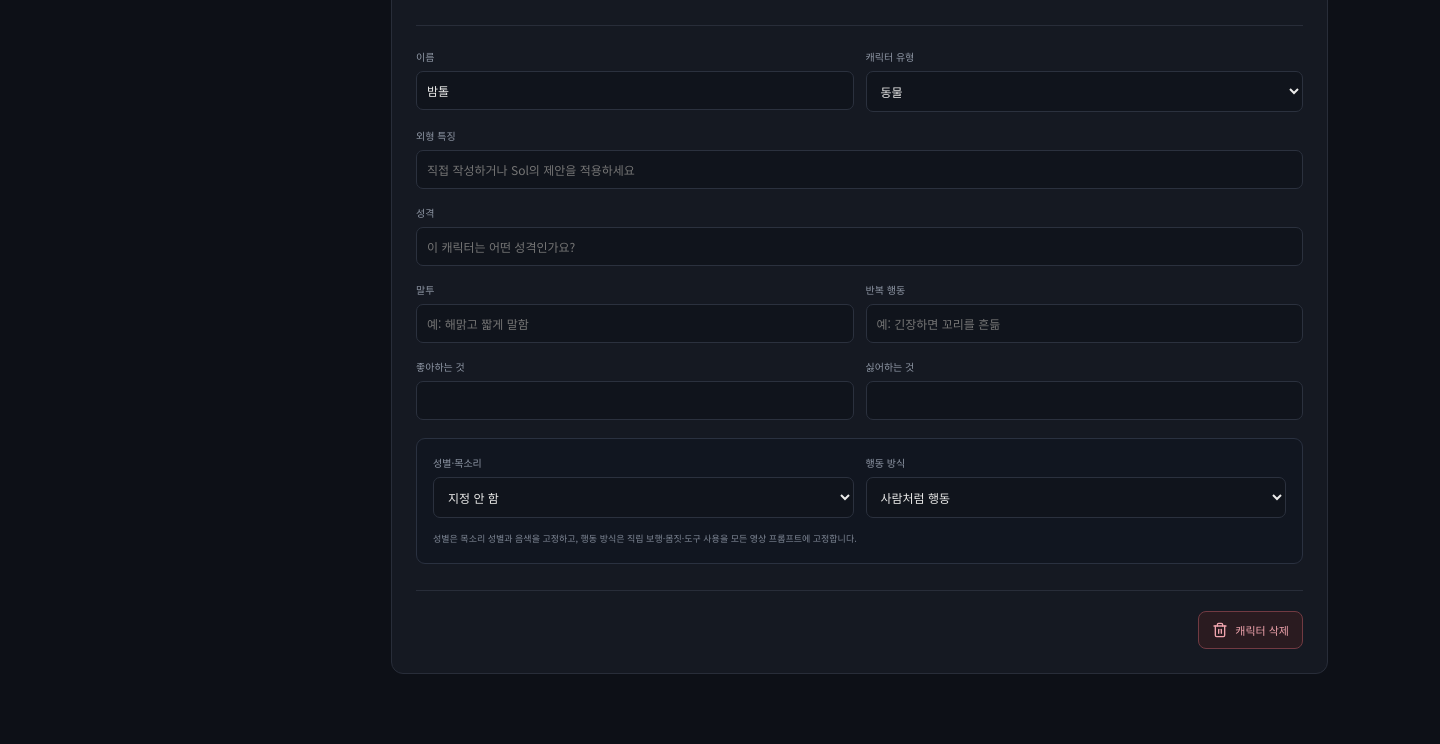
Test case: 캐릭터 삭제 화면 › 첫 클릭에는 삭제 영향을 확인시키고 취소하면 삭제하지 않는다
(page scrolled)
Click the button "캐릭터 삭제".
click(1251, 630)  # box [1198,611,1303,649]
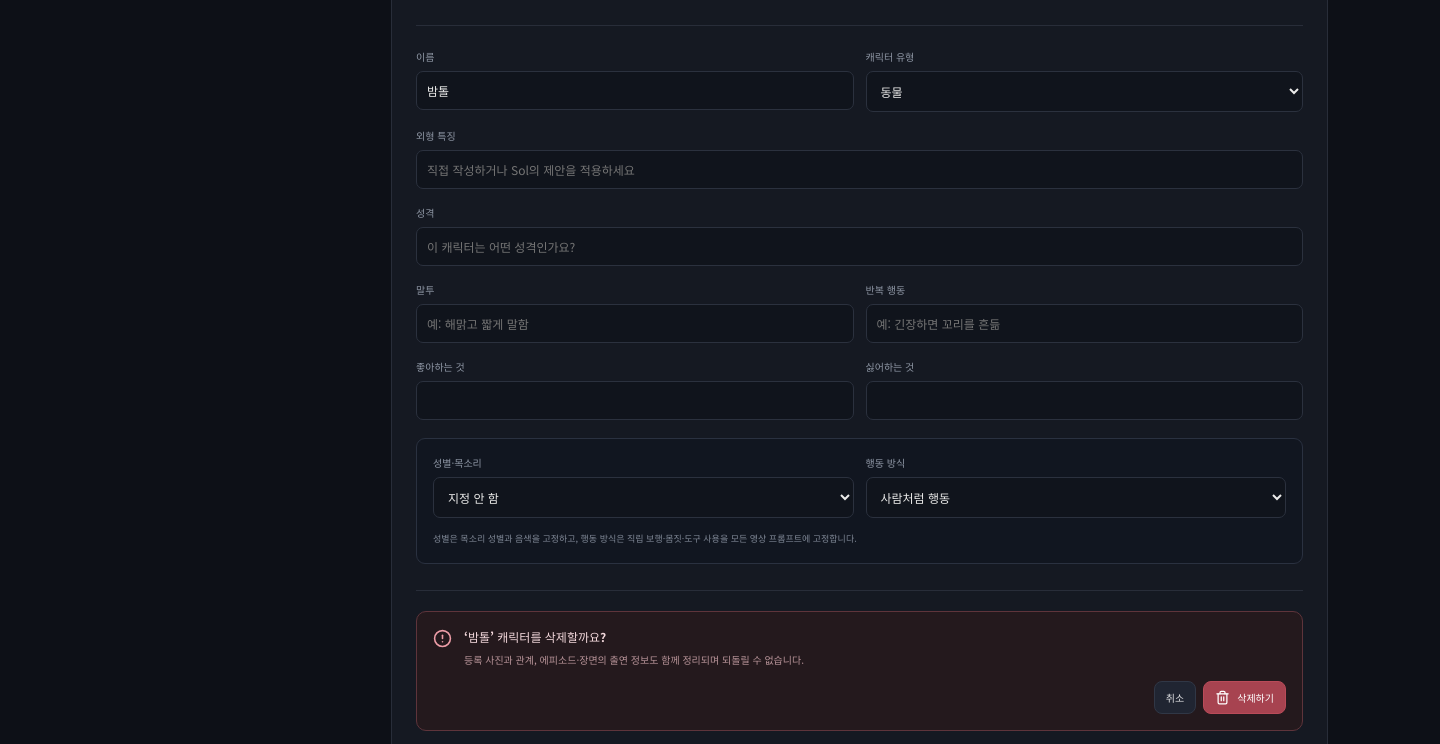
Expected: the text "되돌릴 수 없습니다" is shown, [464,652,804,667]
Click the button "취소".
click(1175, 698)  # box [1154,681,1196,714]
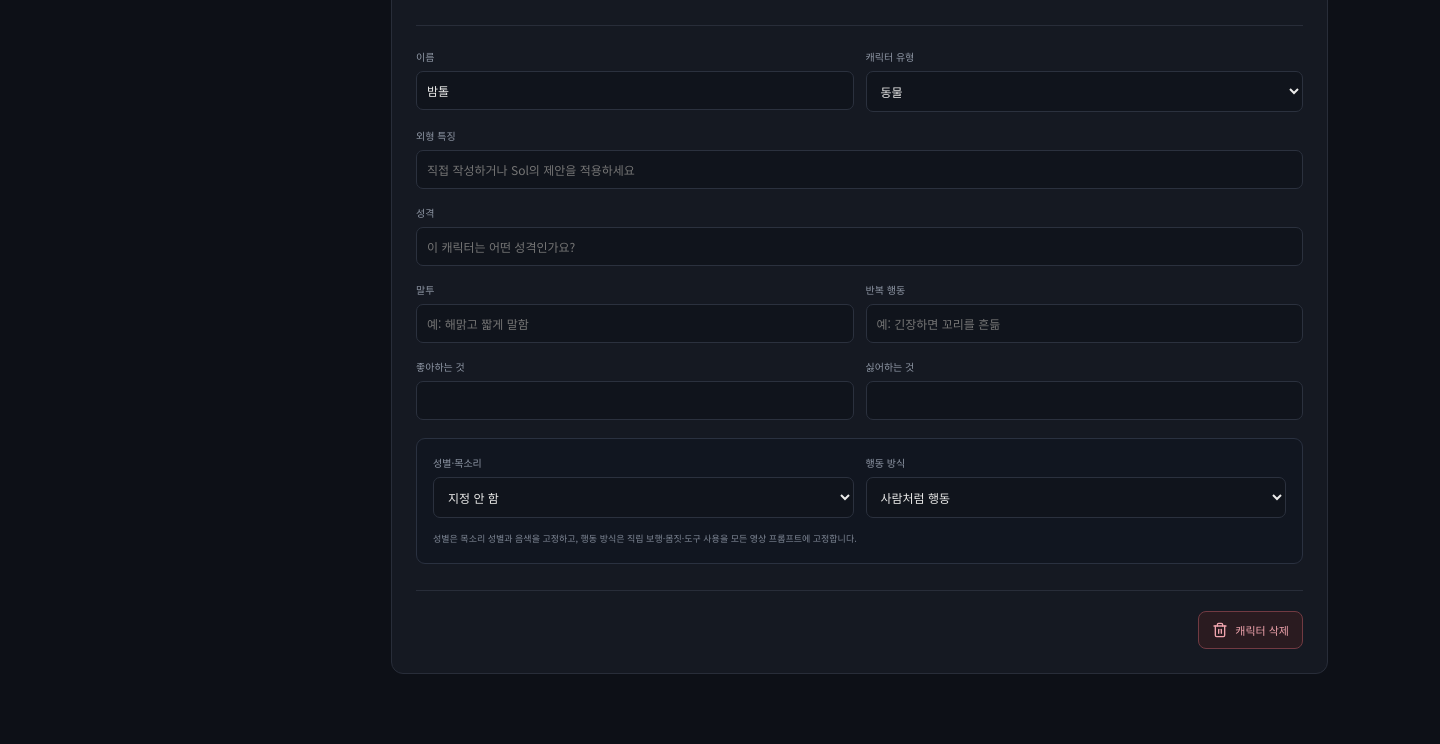
Expected: the text "되돌릴 수 없습니다" is gone
